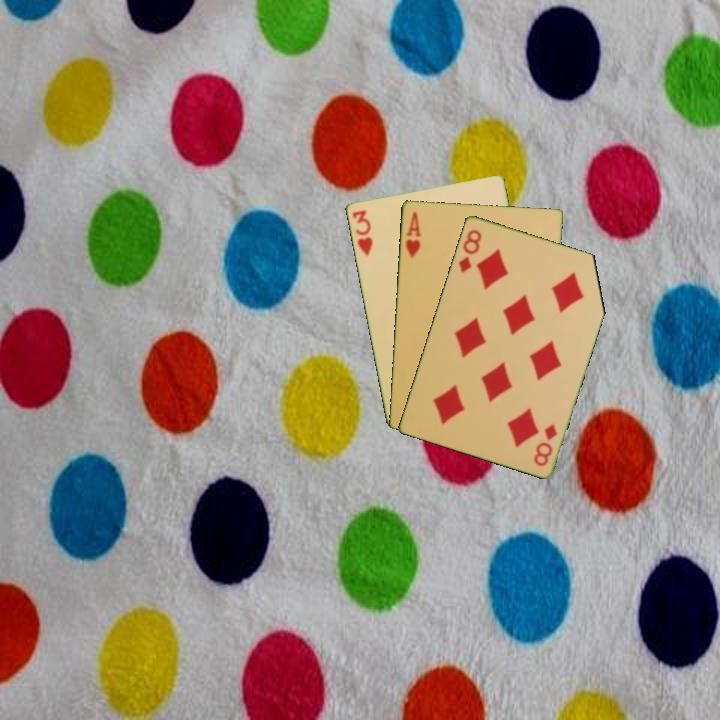3h: (348, 206, 375, 259)
8d: (530, 420, 560, 469), (455, 225, 484, 275)
Ah: (402, 208, 423, 260)
